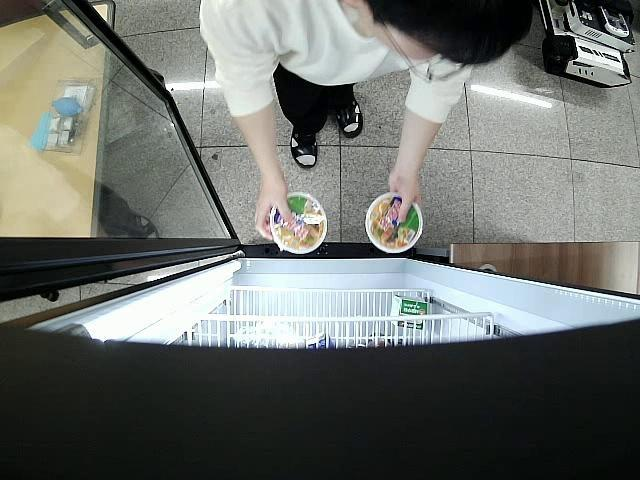09_yukGaeJang: (269, 192, 326, 253), (365, 192, 422, 252)
